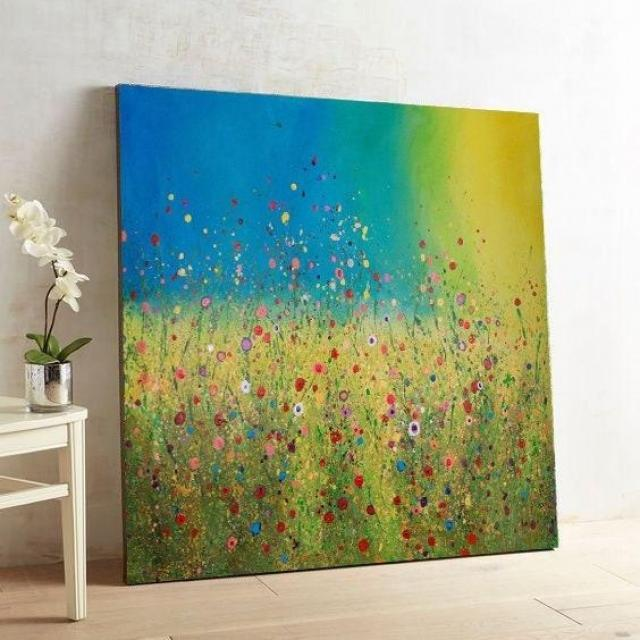painting: (117, 84, 555, 581)
